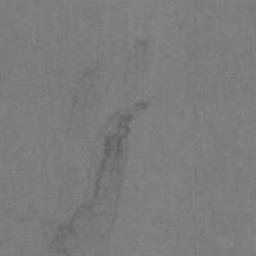Water spot: (42, 100, 152, 256), (63, 65, 114, 142), (119, 38, 152, 87)
